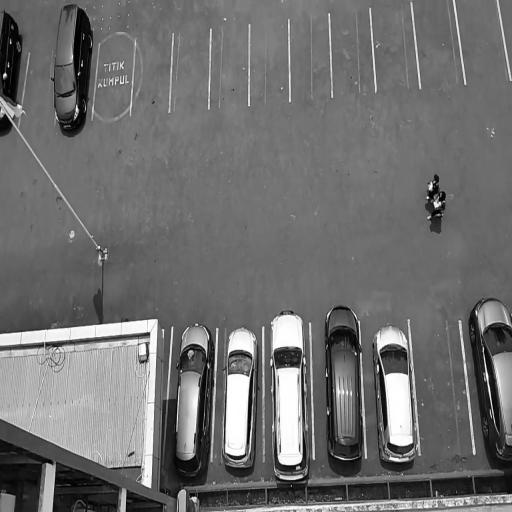Car: (465, 290, 512, 468), (268, 306, 312, 489), (169, 326, 216, 482), (323, 300, 363, 465), (371, 322, 417, 465), (218, 325, 259, 472), (52, 4, 95, 137), (0, 4, 23, 136)
Space Available: (409, 317, 474, 455), (455, 0, 510, 83), (371, 2, 419, 90), (330, 7, 375, 96), (290, 15, 331, 100), (250, 19, 289, 104), (170, 30, 210, 112), (93, 40, 135, 118), (131, 35, 172, 114), (210, 26, 248, 108), (19, 51, 55, 127), (499, 0, 512, 79)
